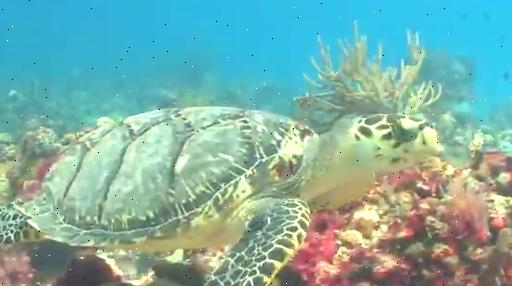Fish: (0, 107, 441, 285)
